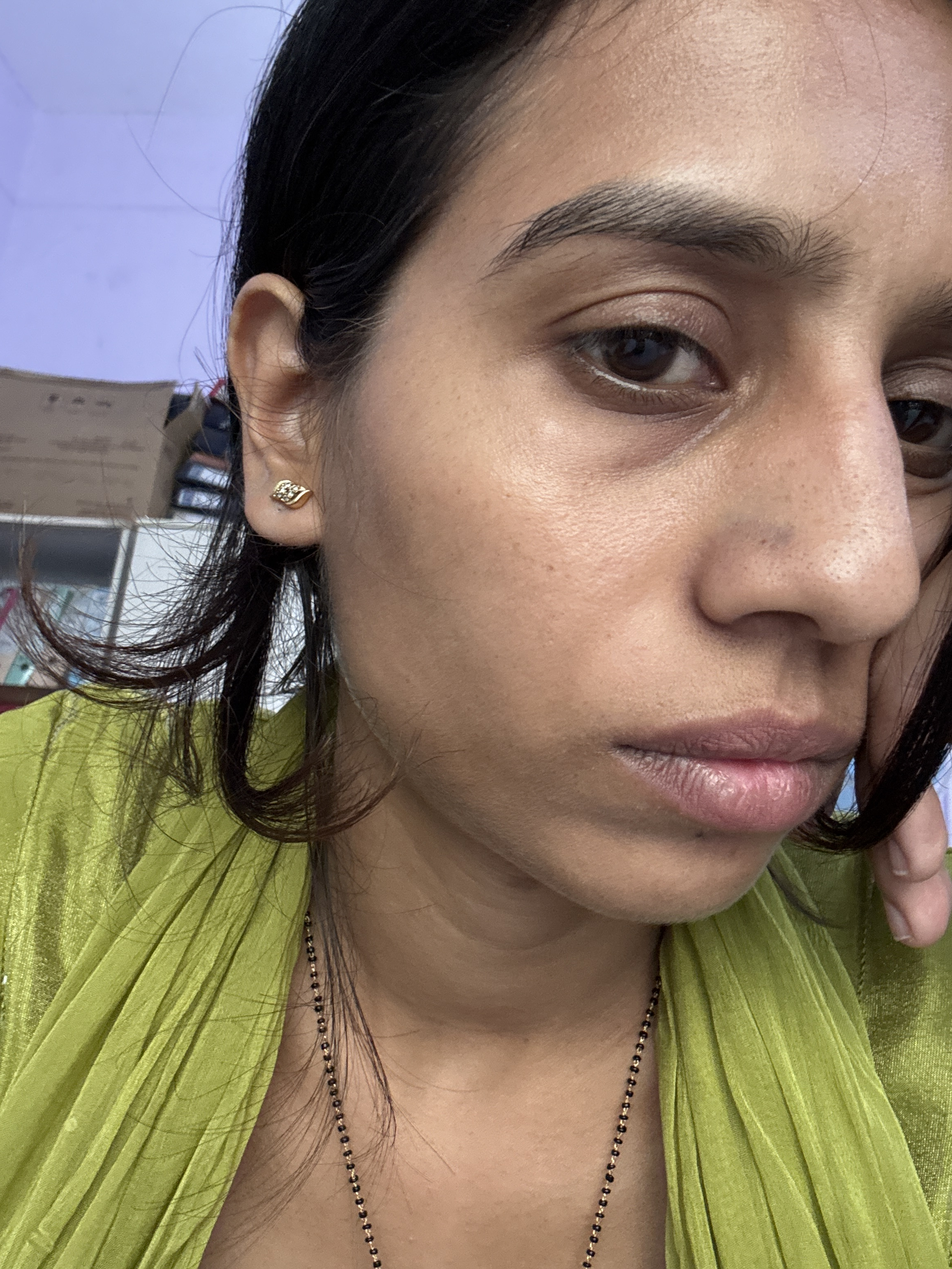closed_comedone: (703, 443, 756, 484), (567, 468, 614, 497)
open_comedone: (832, 455, 902, 601), (747, 556, 832, 595)
